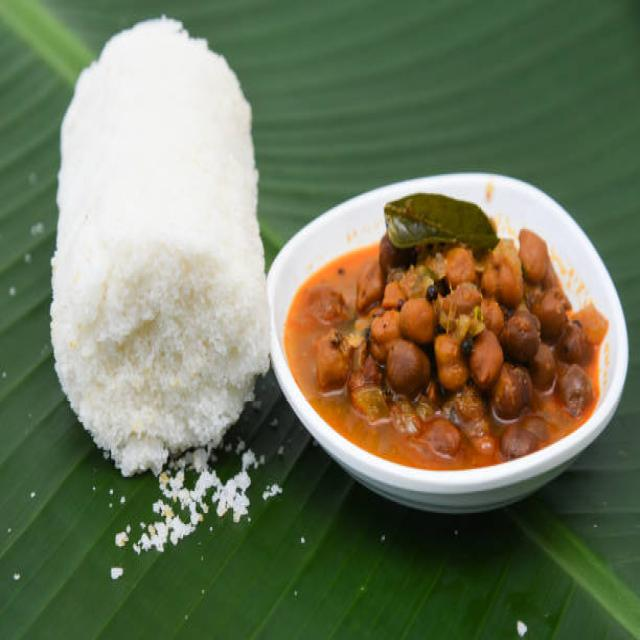CURRY: (283, 190, 607, 475)
PUTTU: (45, 13, 270, 475)
